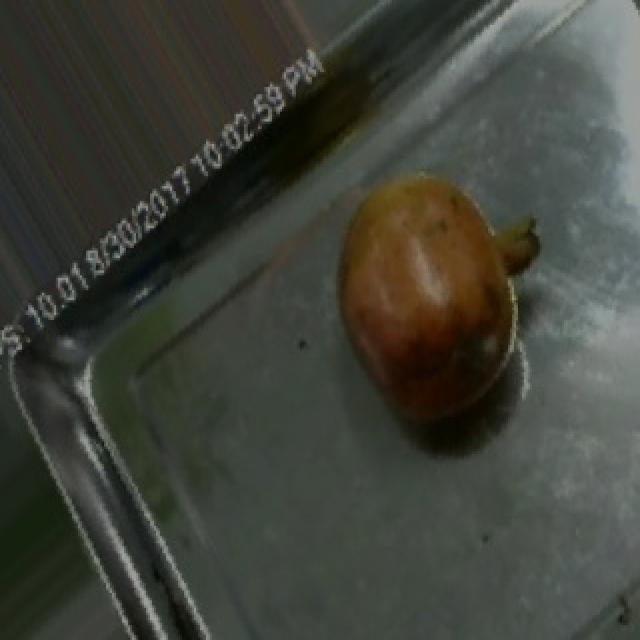fruit: (298, 142, 560, 442)
